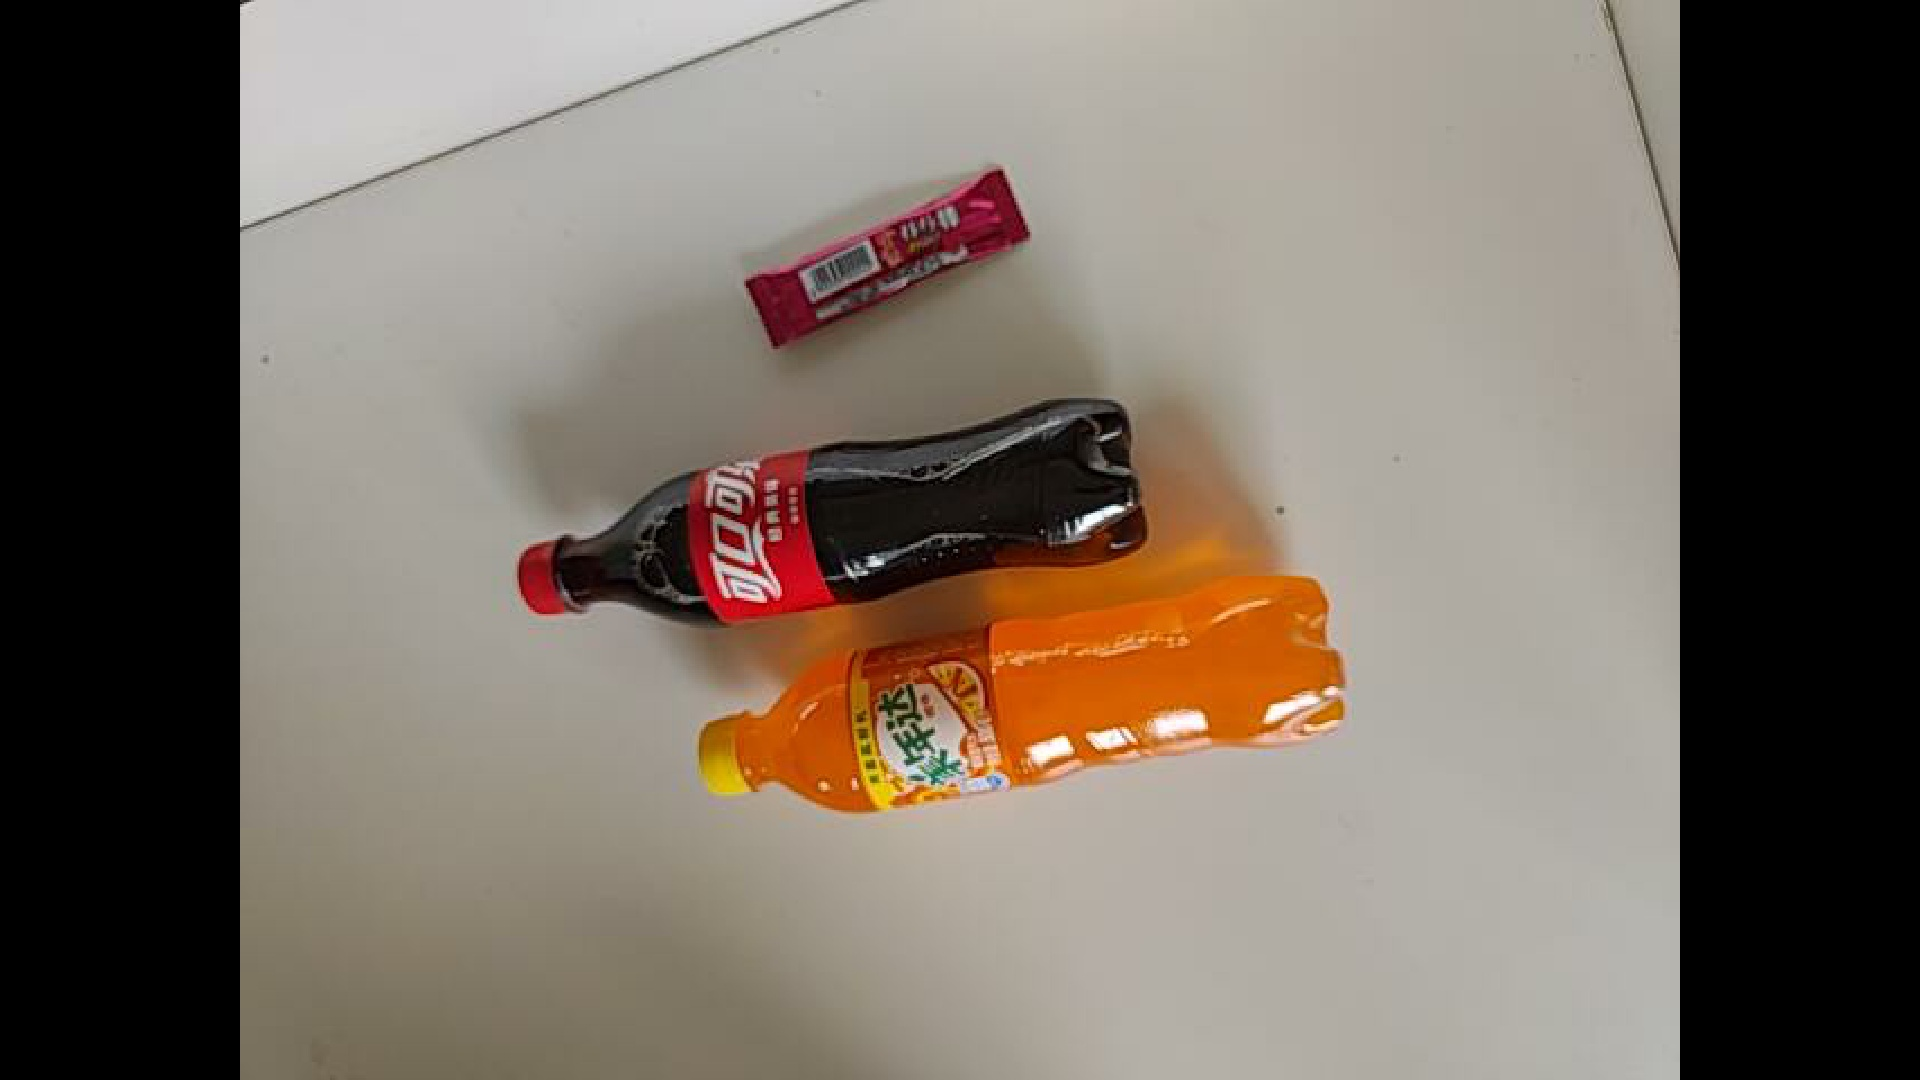cola: (500, 431, 1183, 674)
fenta: (655, 559, 1358, 800)
sugar: (738, 212, 1063, 355)
